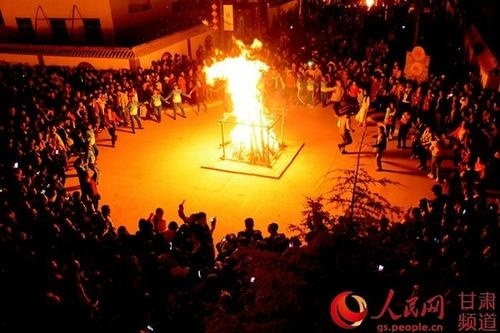fire: (205, 41, 283, 160)
